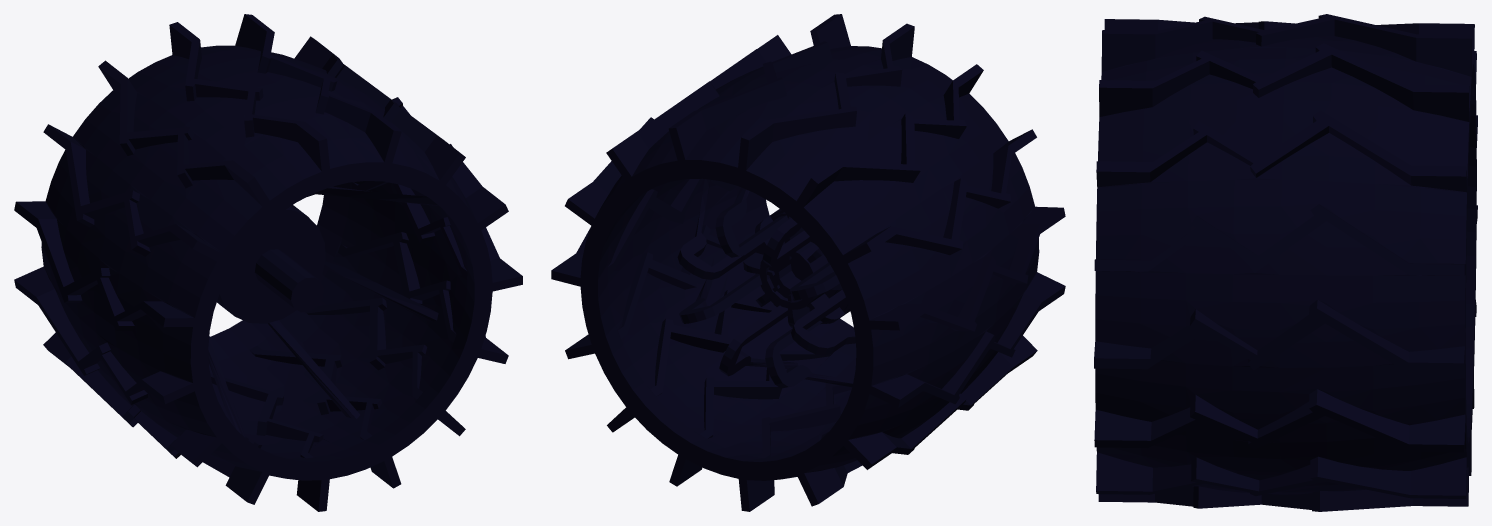
The model's file is Mars6Mars_Rover__Curiosity_1_0__-_1__Rover_Wheel_left_1.001.dae.
The picture shows the model from 3 angles, left to right: view 1: azimuth 30°, elevation 25°; view 2: azimuth 150°, elevation 25°; view 3: azimuth 270°, elevation 25°; orthographic projection. The views are drawn at different scales.
Parts seen in each view (by area): view 1: tmp_export_Mars6Mars_Rover__Curiosity_1_0__-_1__Rover_Wheel_; view 2: tmp_export_Mars6Mars_Rover__Curiosity_1_0__-_1__Rover_Wheel_; view 3: tmp_export_Mars6Mars_Rover__Curiosity_1_0__-_1__Rover_Wheel_.
Boxes of the visible parts, bbox=[...] form: tmp_export_Mars6Mars_Rover__Curiosity_1_0__-_1__Rover_Wheel_: bbox=[14, 14, 522, 511]; tmp_export_Mars6Mars_Rover__Curiosity_1_0__-_1__Rover_Wheel_: bbox=[551, 14, 1065, 511]; tmp_export_Mars6Mars_Rover__Curiosity_1_0__-_1__Rover_Wheel_: bbox=[1094, 14, 1477, 511].
Bounding box in the file's own units: 0.1558 × 0.1201 × 0.1557.
